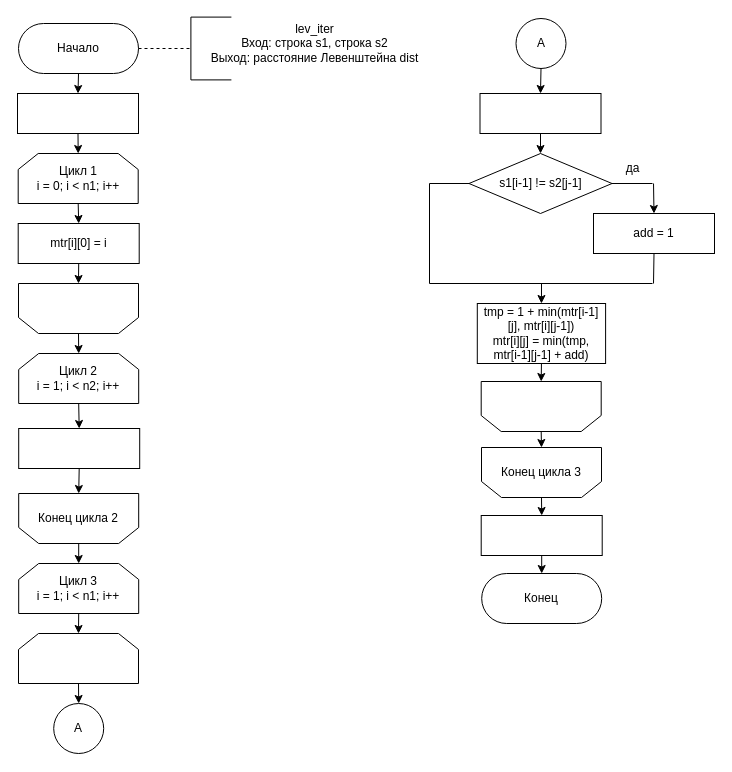
Image size: 732x772. Some labels were removed from this diagram. Each missing label, with the centre of its shape:
"add = 0" goes at (540,113).
"dist = mtr[n1 - 1][n2 - 1]" goes at (541,535).
"mtr[0][i] = i" goes at (79,448).
"n1 = длина s1 + 1 n2 = длина s2 + 1" goes at (77,113).
"Конец цикла 1" goes at (78,308).
"Конец цикла 4" goes at (540,406).
"Цикл 4 j = 1; j < n2; j++" goes at (78,658).
